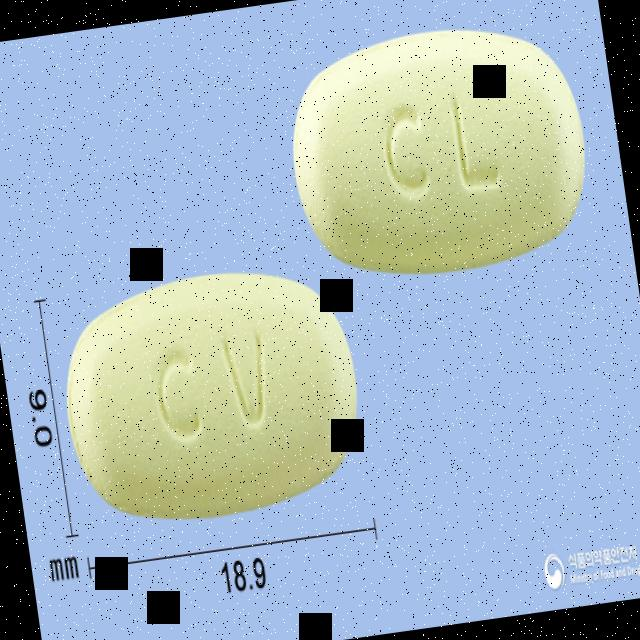Cllaricin: (49, 250, 377, 536), (276, 7, 600, 290)
